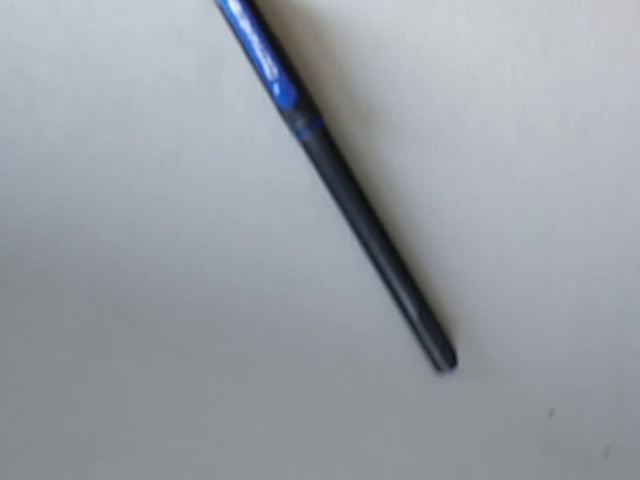Pen: (201, 9, 479, 391)
